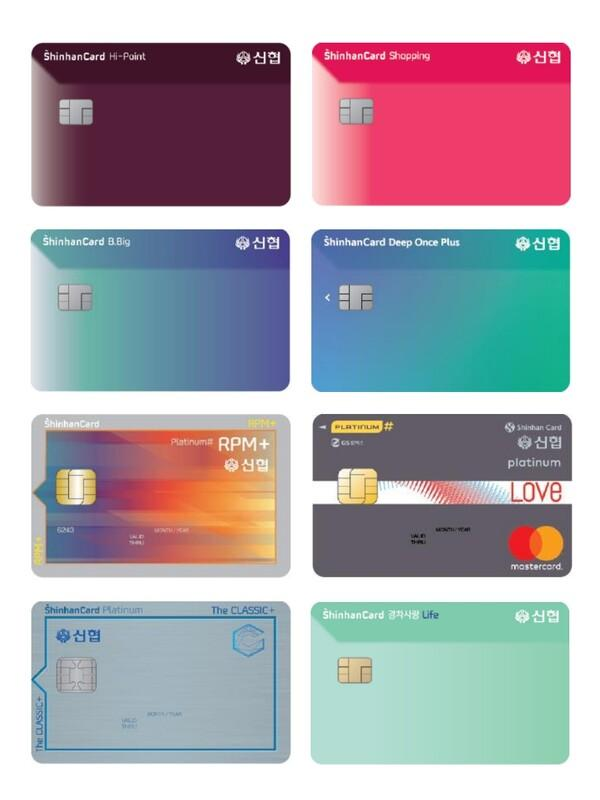Credit_card: (311, 412, 575, 579), (31, 41, 293, 208), (30, 414, 292, 581), (310, 42, 573, 208), (30, 600, 292, 765), (309, 601, 570, 766), (310, 228, 571, 393), (30, 228, 292, 392)
